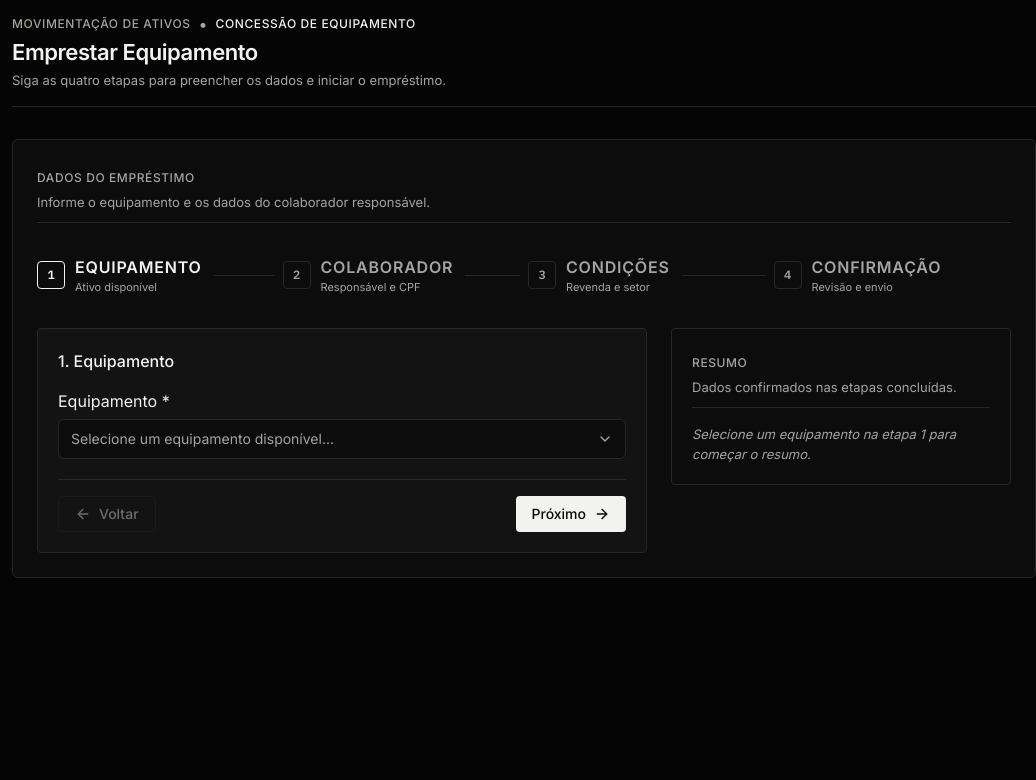
Test case: LoanPage — assistente de 4 passos › não avança da etapa Equipamento sem selecionar um item disponível
Expected: the heading "1. Equipamento" is shown, left=58, top=350, right=174, bottom=370
Click the button "Próximo": (571, 514) left=516, top=496, right=626, bottom=532
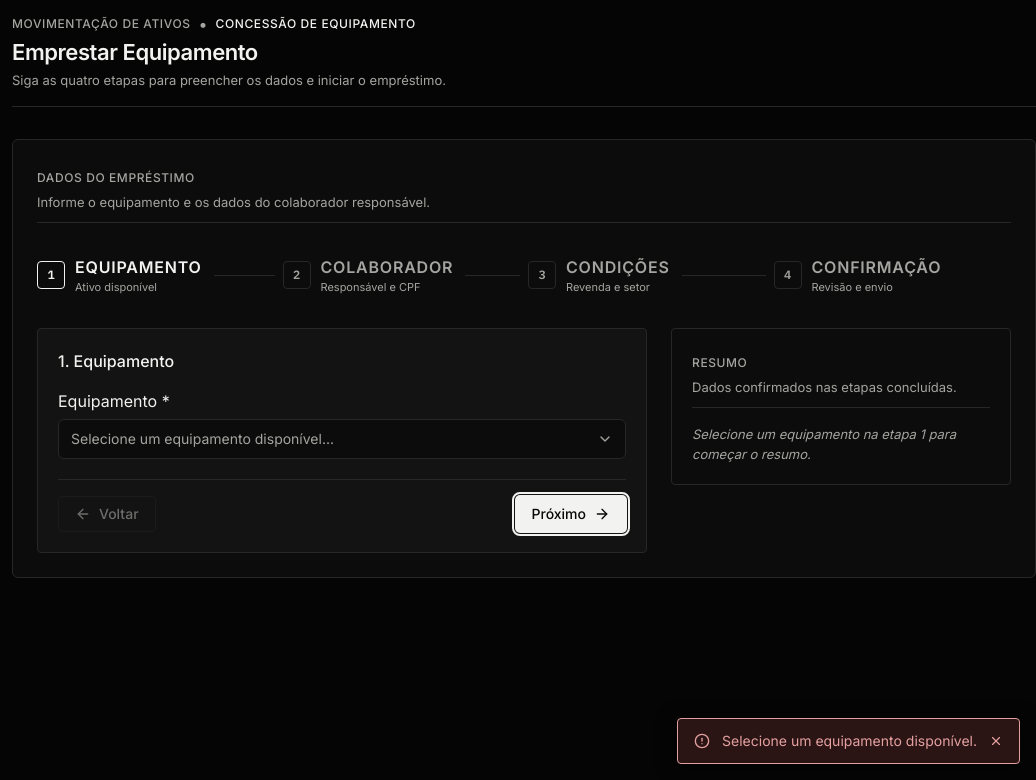
Expected: the heading "1. Equipamento" is shown, left=58, top=350, right=174, bottom=370
Expected: the text "Selecione um equipamento disponível." is shown, left=722, top=731, right=977, bottom=751
